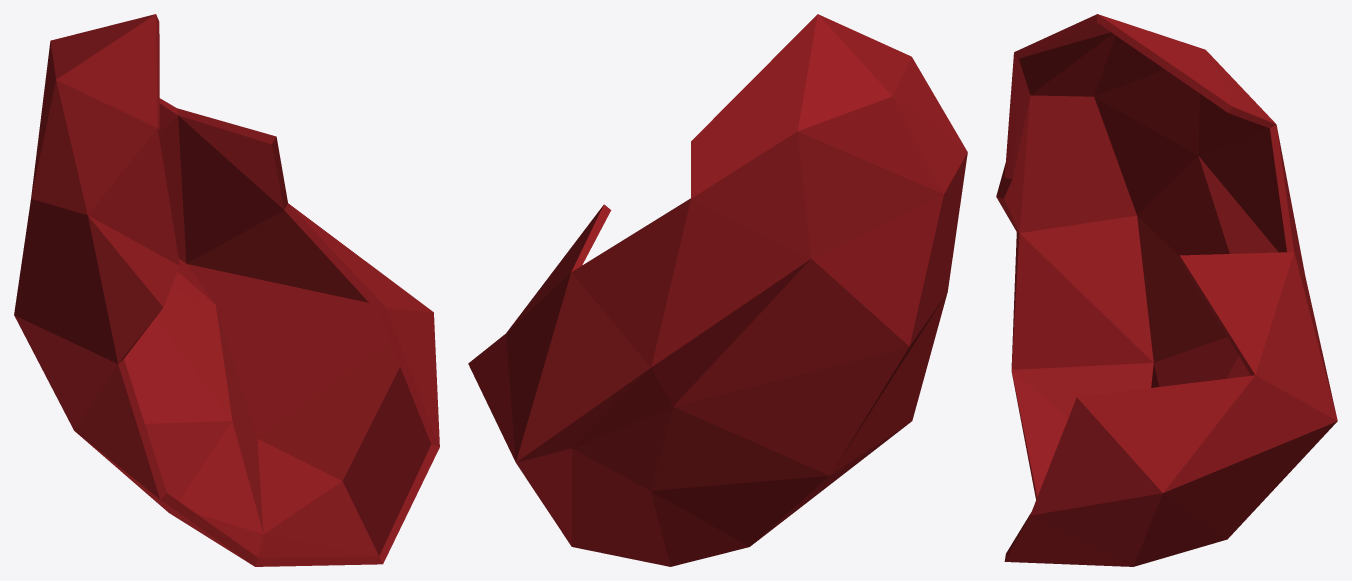
The model's file is dvt_clot1.fbx.
3 renders of one model, left to right at view 1: azimuth 30°, elevation 25°; view 2: azimuth 150°, elevation 25°; view 3: azimuth 270°, elevation 25°, orthographic. The views are drawn at different scales.
Visible parts, largest first — view 1: clot1; view 2: clot1; view 3: clot1.
Part boxes in pixels (x1,y1,x2,y2): clot1: [14, 14, 439, 566]; clot1: [468, 14, 967, 566]; clot1: [996, 14, 1337, 566].
Size of the model in its own units: 13.1 by 16.28 by 10.19.
